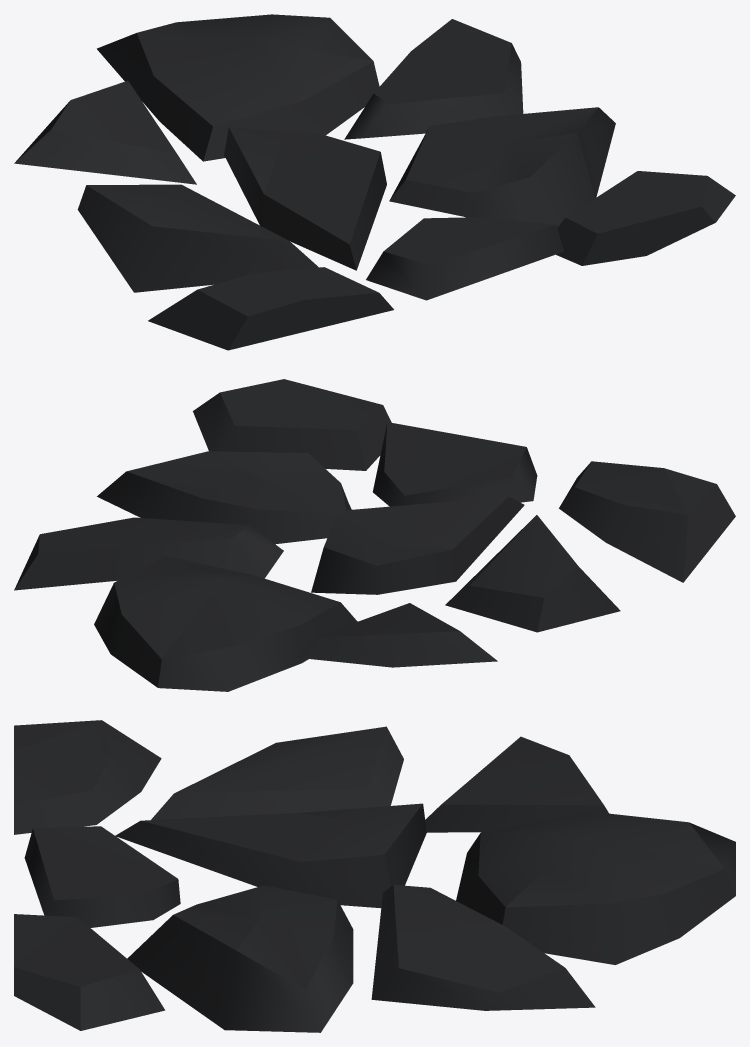
Rendered from Stone_Path_Ending_U_2.fbx.
The picture shows the model from 3 angles, top to bottom: view 1: azimuth 30°, elevation 25°; view 2: azimuth 150°, elevation 25°; view 3: azimuth 270°, elevation 25°; orthographic projection. The views are drawn at different scales.
Parts seen in each view (by area): view 1: Stone_Path_Ending_U_2; view 2: Stone_Path_Ending_U_2; view 3: Stone_Path_Ending_U_2.
Part boxes in pixels (box(x1,y1,x2,y2)): Stone_Path_Ending_U_2: box(14, 14, 735, 350); Stone_Path_Ending_U_2: box(14, 379, 735, 691); Stone_Path_Ending_U_2: box(14, 720, 735, 1032).
Size of the model in its own units: 97.78 by 14.98 by 102.
